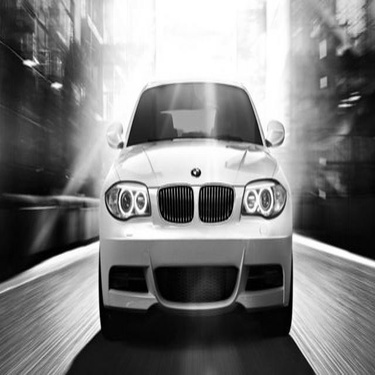car: (79, 70, 299, 343)
